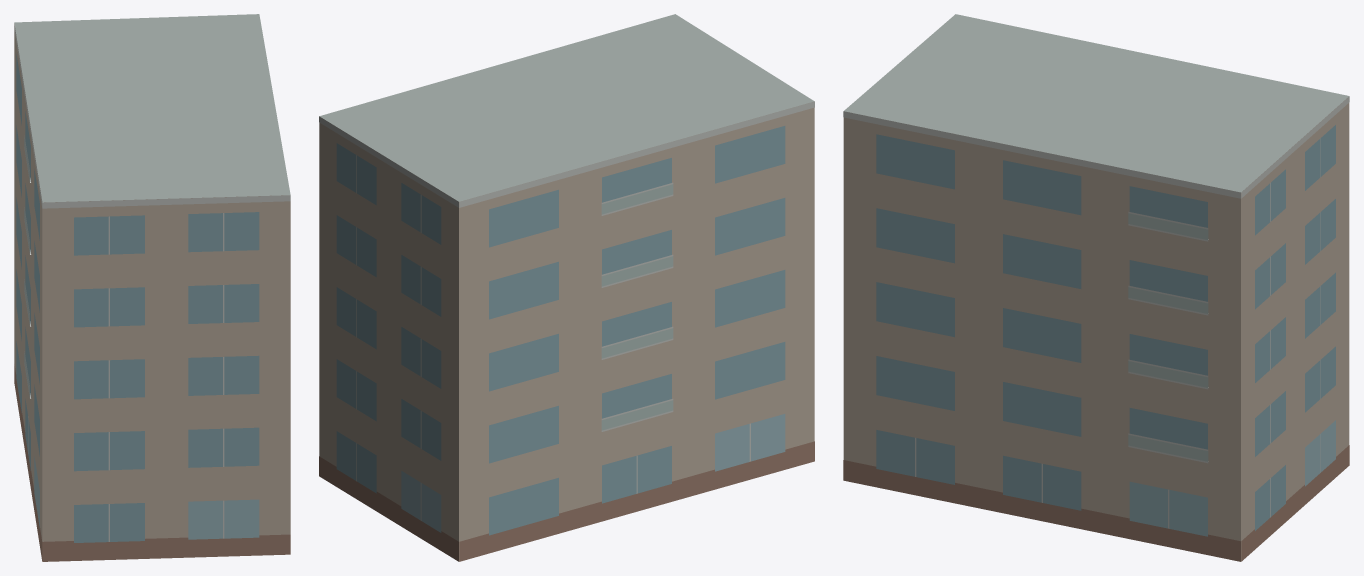
The model's file is survey-upis-32941132.glb.
The picture shows the model from 3 angles, left to right: view 1: azimuth 30°, elevation 25°; view 2: azimuth 150°, elevation 25°; view 3: azimuth 270°, elevation 25°; orthographic projection. The views are drawn at different scales.
Visible parts, largest first — view 1: survey-upis-32941132.tmp; view 2: survey-upis-32941132.tmp; view 3: survey-upis-32941132.tmp.
Part boxes in pixels (<box>): survey-upis-32941132.tmp: <box>14,14,290,561</box>; survey-upis-32941132.tmp: <box>319,14,814,561</box>; survey-upis-32941132.tmp: <box>843,14,1349,561</box>.
Size of the model in its own units: 14.83 by 14.3 by 17.76.
